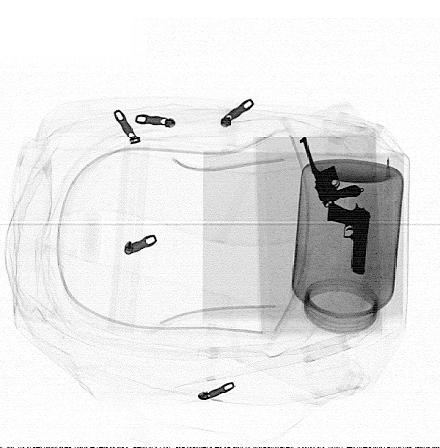Gun: (298, 136, 362, 209), (325, 199, 372, 278)
